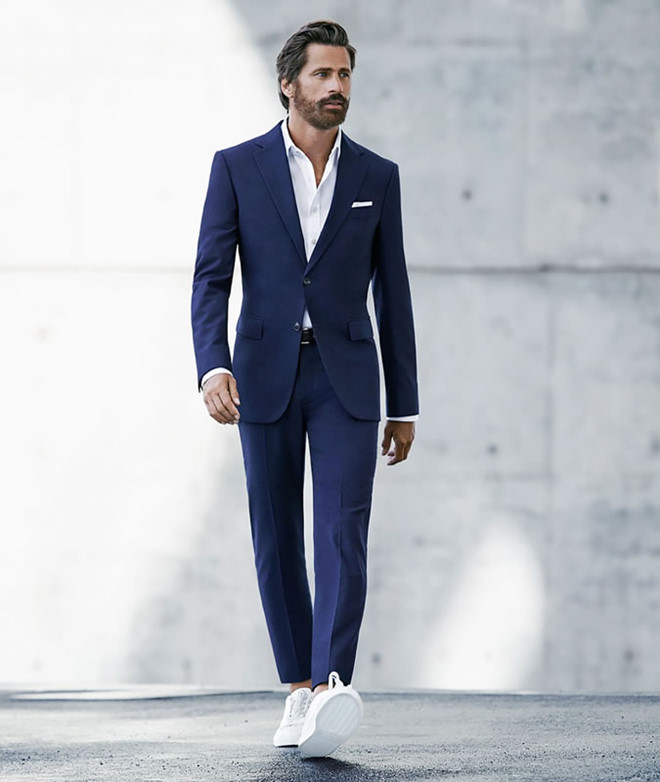person: (192, 20, 417, 759)
